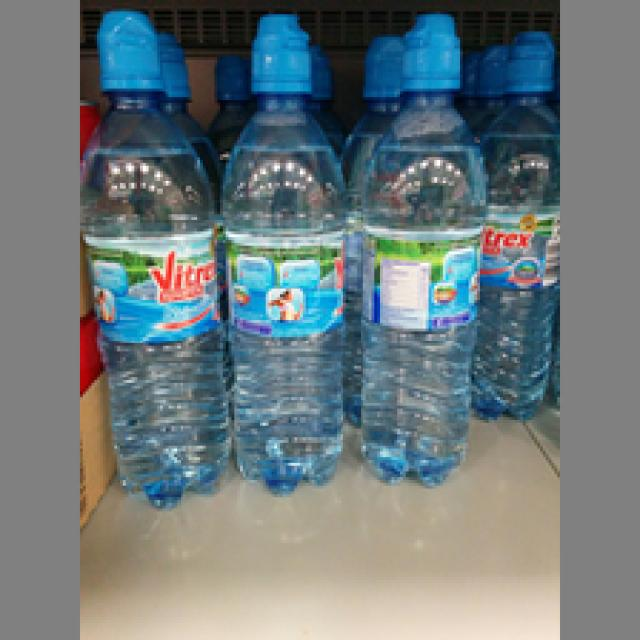groceries: (80, 3, 229, 511), (348, 11, 486, 486), (214, 11, 346, 500), (463, 26, 554, 420)
